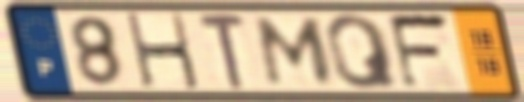8: (68, 13, 128, 89)
F: (385, 11, 455, 93)
H: (122, 10, 204, 92)
M: (254, 15, 337, 88)
Q: (322, 12, 403, 92)
T: (194, 11, 251, 92)
